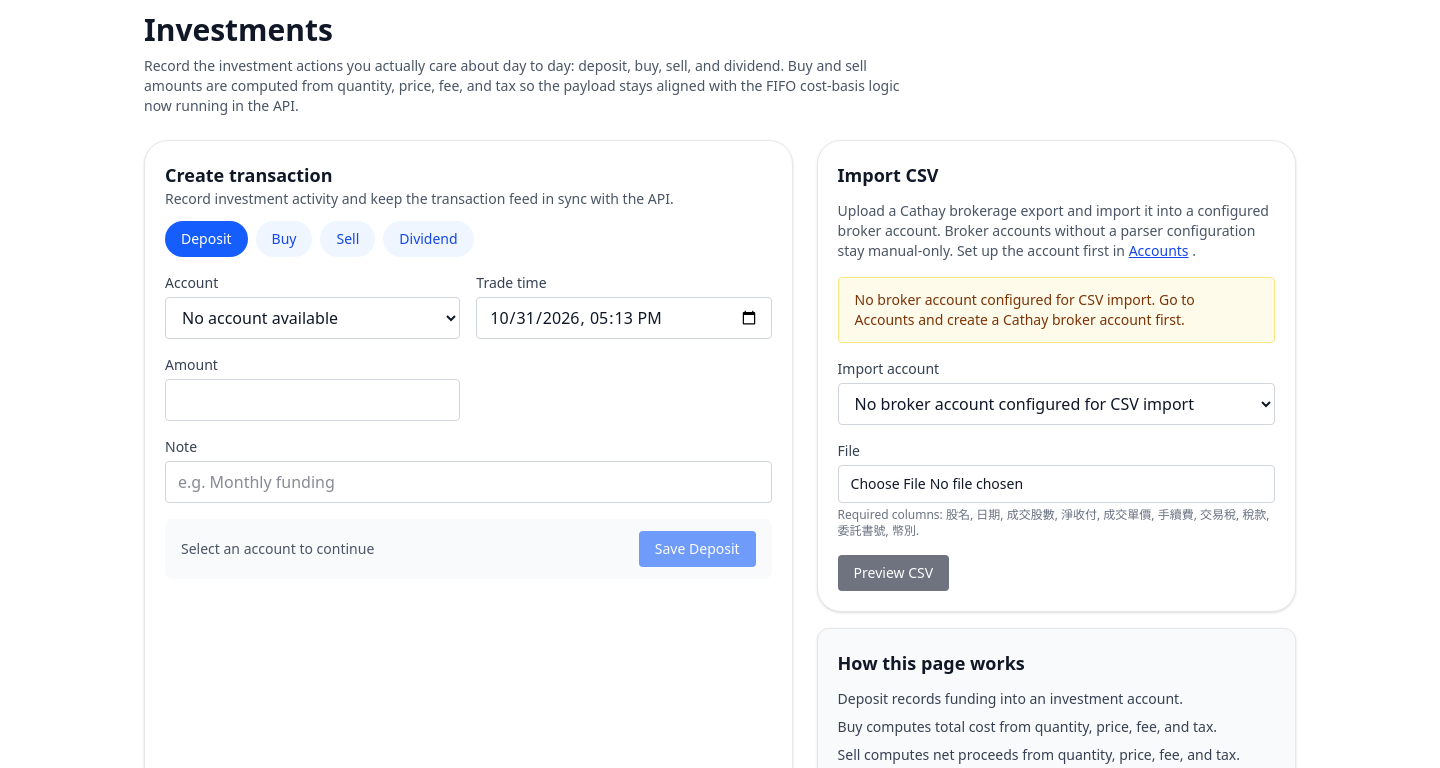
Test case: Transactions page trade flows › pages past cash-only asset search results
The image size is (1440, 768).
Click the button "Buy".
click(284, 239)  # box [256, 221, 312, 257]
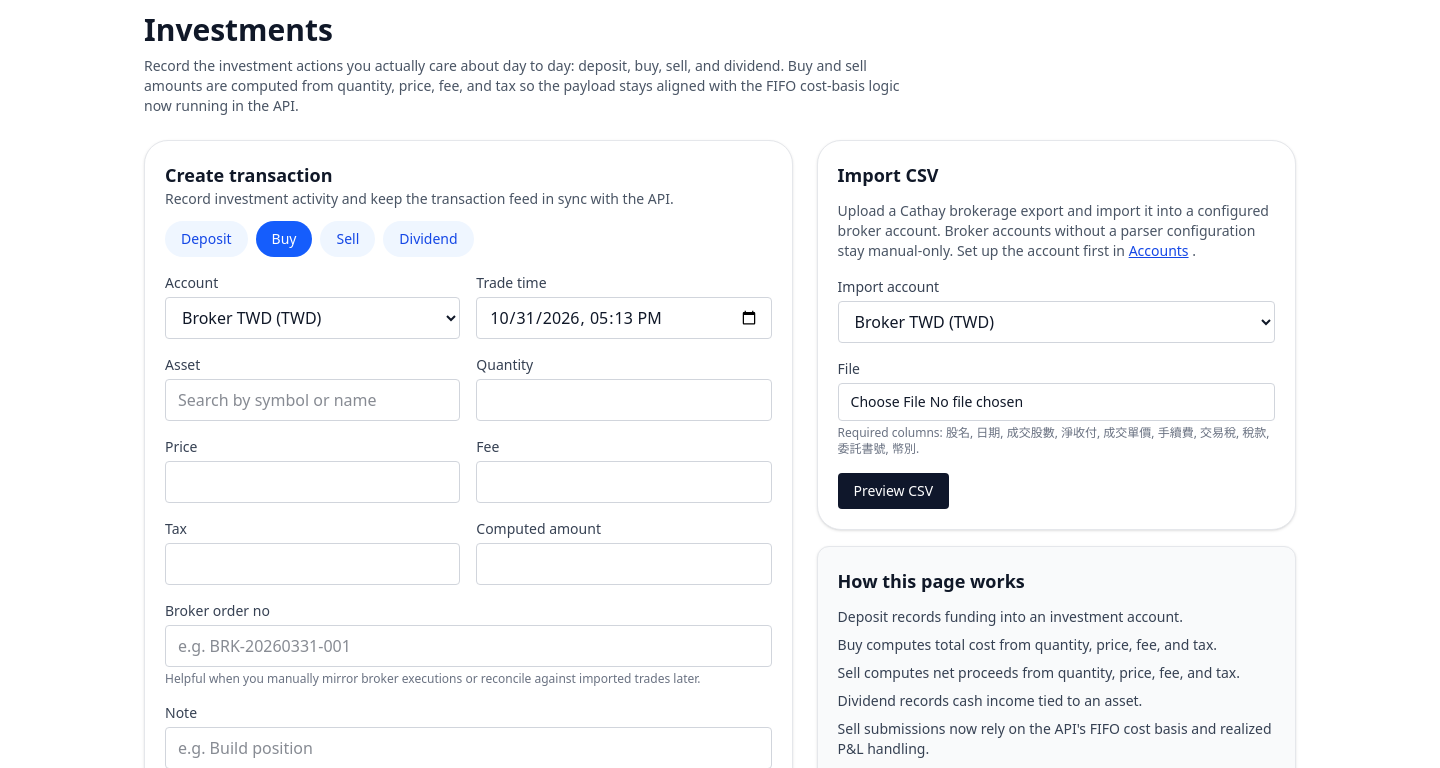
Type "cash" into the search field labelled "Asset".
click(313, 400); type("cash")  # box [165, 379, 460, 421]
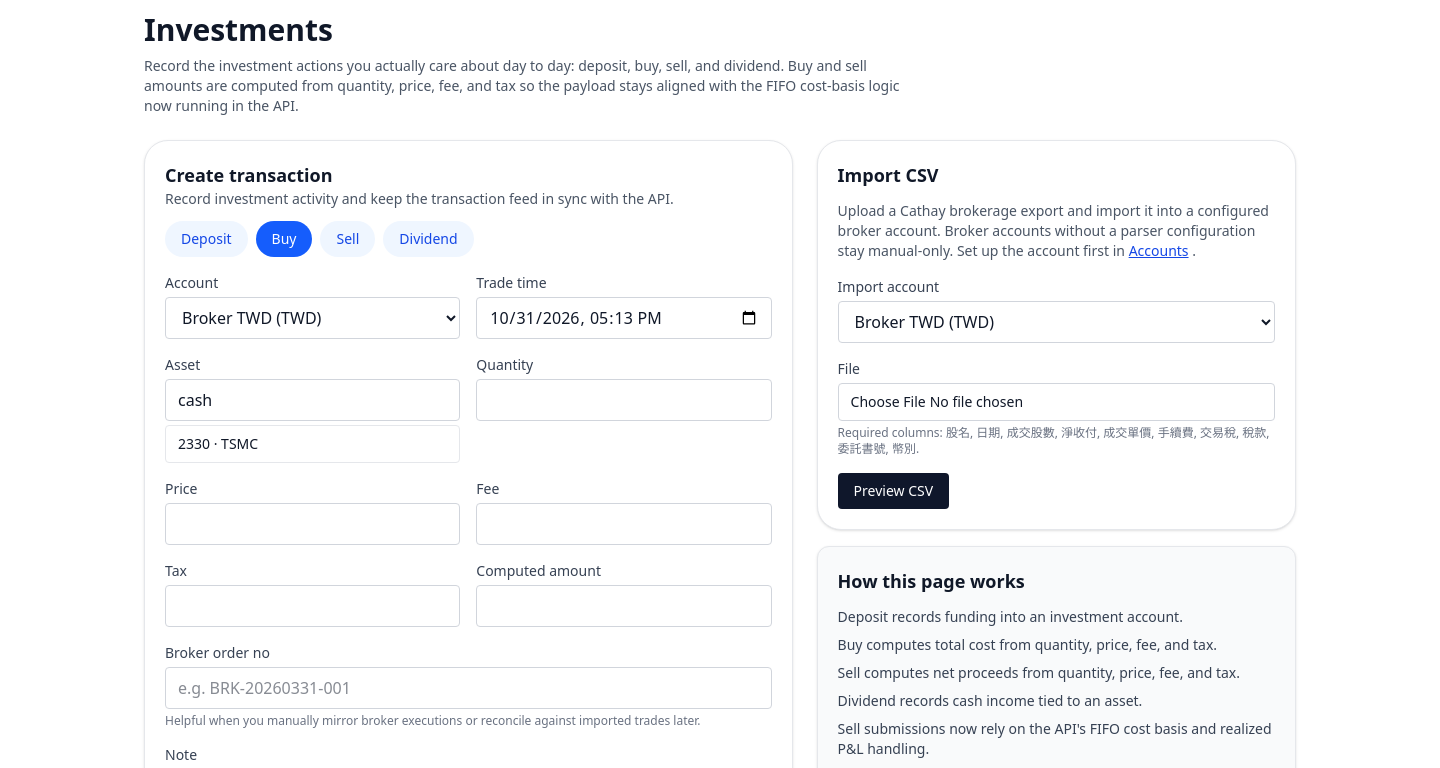
expect the button "2330 · TSMC" is shown: met, box [166, 426, 459, 462]
